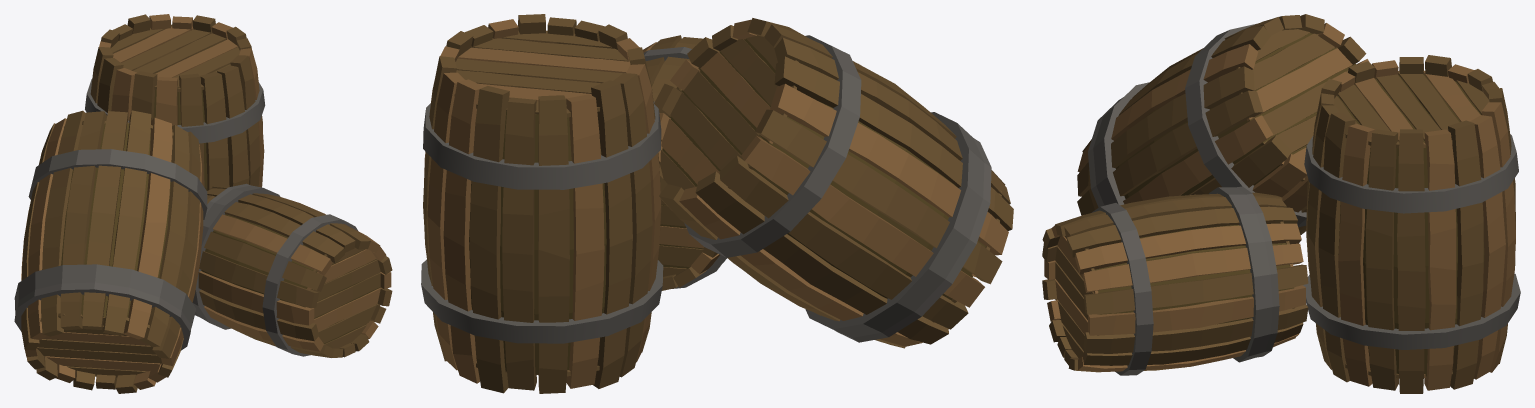
File: BarrelGroup.fbx
3 renders of one model, left to right at view 1: azimuth 30°, elevation 25°; view 2: azimuth 150°, elevation 25°; view 3: azimuth 270°, elevation 25°, orthographic. The views are drawn at different scales.
Parts seen in each view (by area): view 1: Cube.011; view 2: Cube.011; view 3: Cube.011.
Part boxes in pixels (x1,y1,x2,y2): Cube.011: [14, 14, 392, 393]; Cube.011: [421, 14, 1013, 393]; Cube.011: [1042, 14, 1520, 393].
Bounding box in the file's own units: 125 × 90.3 × 134.
